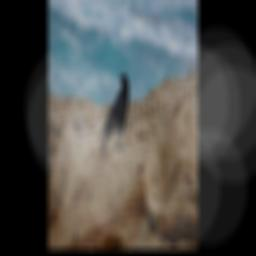Crow: (98, 70, 130, 154)
